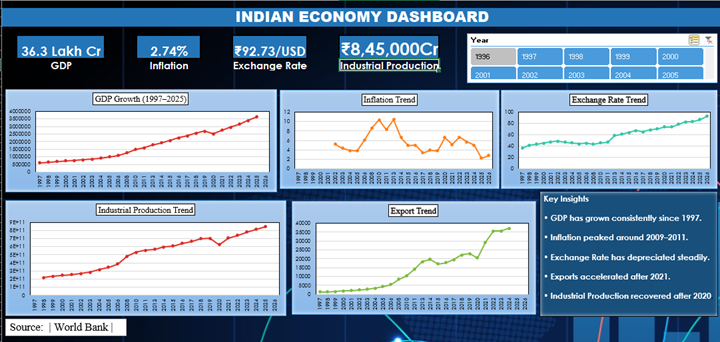

This screenshot's page, from the dashboard's own definition file:
{"tool":"powerbi","page":{"name":"Page 1","canvas":[1280,720],"ordinal":0},"visuals":[{"type":"cardVisual","fields":{"Data":["Sum(Indian_Economy_Master.GDP)"]},"box":[7.3,108.2,211.8,124.5],"z":0},{"type":"actionButton","box":[0,0,100,40],"z":1000},{"type":"cardVisual","fields":{"Data":["Sum(Indian_Economy_Master.Inflation)"]},"box":[760.9,104.5,210,128.2],"z":2000},{"type":"cardVisual","fields":{"Data":["Sum(Indian_Economy_Master.Exports)"]},"box":[510.8,107.7,209.2,124.6],"z":3000},{"type":"cardVisual","fields":{"Data":["Sum(Indian_Economy_Master.Forex_Reserves)"]},"box":[247.7,101.5,224.6,135.4],"z":4000},{"type":"lineChart","fields":{"Category":["Indian_Economy_Master.Year"],"Y":["Sum(Indian_Economy_Master.GDP)"]},"box":[6.9,241,313.8,230],"z":5000},{"type":"lineChart","fields":{"Category":["Indian_Economy_Master.Year"],"Y":["Sum(Indian_Economy_Master.Inflation)"]},"box":[329.4,241,321.2,230],"z":6000},{"type":"lineChart","fields":{"Category":["Indian_Economy_Master.Year"],"Y":["Sum(Indian_Economy_Master.Exchange rate)"]},"box":[330.7,478.8,318.8,230],"z":7000},{"type":"lineChart","fields":{"Category":["Indian_Economy_Master.Year"],"Y":["Sum(Indian_Economy_Master.Industrial_Production)"]},"box":[662.3,240.6,308.3,230],"z":8000},{"type":"scatterChart","fields":{"X":["Indian_Economy_Master.GDP"],"Y":["Indian_Economy_Master.Exports"]},"box":[660.7,480.1,308.8,230],"z":9000},{"type":"listSlicer","fields":{"Values":["Indian_Economy_Master.Year"]},"box":[983.1,16.9,210.8,690.8],"z":10000},{"type":"lineChart","fields":{"Category":["Indian_Economy_Master.Year"],"Y":["Sum(Indian_Economy_Master.Exports)"]},"box":[5.7,478.8,313.8,230],"z":11000},{"type":"textbox","box":[113.6,0,792.4,101.5],"z":12000}]}

Visuals, with their boxes on the page's 1280x720 design canvas (x1, y1, x2, y2). These are canvas units, not pixel positions in the 720x342 screenshot, which may show the page scaled, cropped or inside an application window:
cardVisual - Sum(Indian_Economy_Master.GDP): BBox(7, 108, 219, 233)
actionButton: BBox(0, 0, 100, 40)
cardVisual - Sum(Indian_Economy_Master.Inflation): BBox(761, 104, 971, 233)
cardVisual - Sum(Indian_Economy_Master.Exports): BBox(511, 108, 720, 232)
cardVisual - Sum(Indian_Economy_Master.Forex_Reserves): BBox(248, 102, 472, 237)
lineChart - Indian_Economy_Master.Year x Sum(Indian_Economy_Master.GDP): BBox(7, 241, 321, 471)
lineChart - Indian_Economy_Master.Year x Sum(Indian_Economy_Master.Inflation): BBox(329, 241, 651, 471)
lineChart - Indian_Economy_Master.Year x Sum(Indian_Economy_Master.Exchange rate): BBox(331, 479, 650, 709)
lineChart - Indian_Economy_Master.Year x Sum(Indian_Economy_Master.Industrial_Production): BBox(662, 241, 971, 471)
scatterChart - Indian_Economy_Master.GDP x Indian_Economy_Master.Exports: BBox(661, 480, 970, 710)
listSlicer - Indian_Economy_Master.Year: BBox(983, 17, 1194, 708)
lineChart - Indian_Economy_Master.Year x Sum(Indian_Economy_Master.Exports): BBox(6, 479, 320, 709)
textbox: BBox(114, 0, 906, 102)
